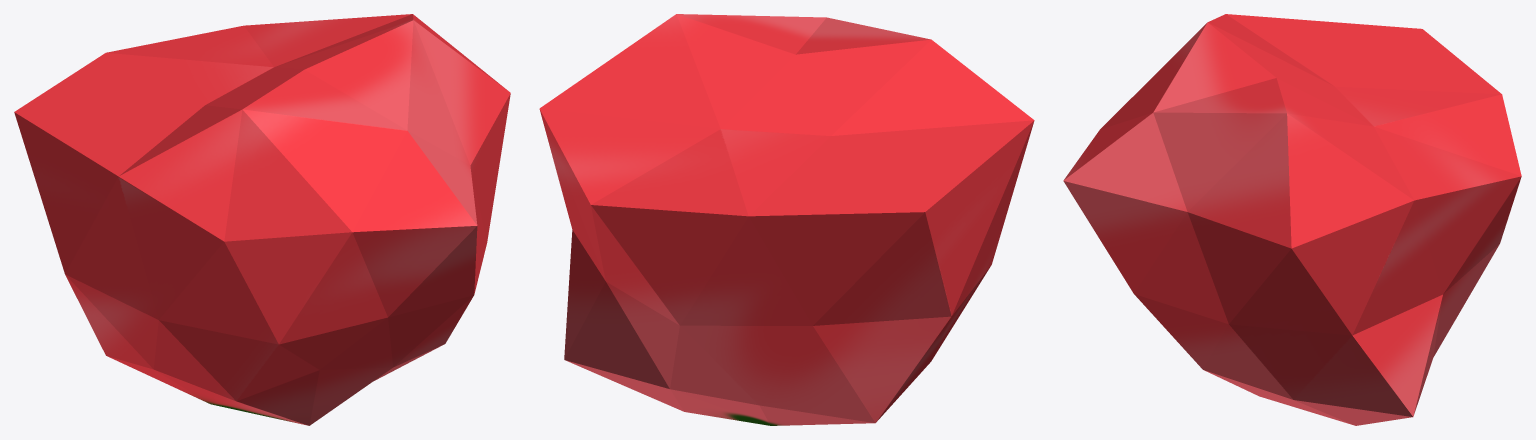
Rendered from rose.fbx.
The picture shows the model from 3 angles, left to right: view 1: azimuth 30°, elevation 25°; view 2: azimuth 150°, elevation 25°; view 3: azimuth 270°, elevation 25°; orthographic projection. The views are drawn at different scales.
Visible parts, largest first — view 1: Icosphere; view 2: Icosphere; view 3: Icosphere.
Part boxes in pixels (box(x1,y1,x2,y2)): Icosphere: box(14, 14, 510, 425); Icosphere: box(539, 14, 1034, 425); Icosphere: box(1063, 14, 1521, 425).
Bounding box in the file's own units: 4691 × 3804 × 4747.
